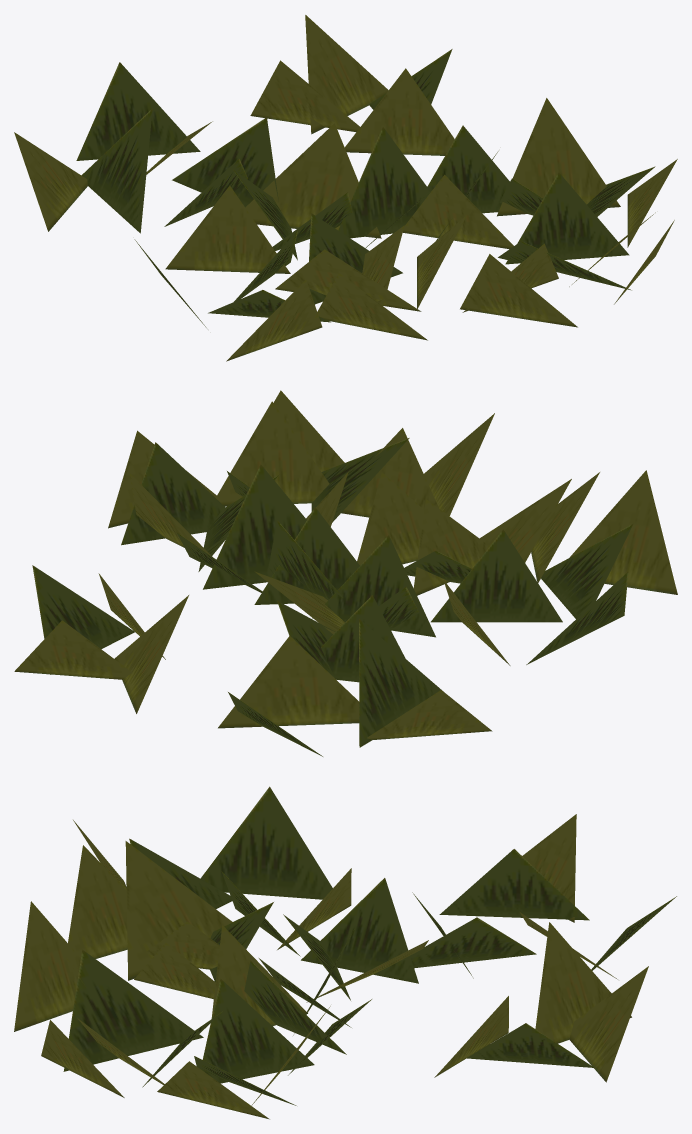
File: dec_Ground_Grass_04_1837.glb
The picture shows the model from 3 angles, top to bottom: view 1: azimuth 30°, elevation 25°; view 2: azimuth 150°, elevation 25°; view 3: azimuth 270°, elevation 25°; orthographic projection. The views are drawn at different scales.
Visible parts, largest first — view 1: Ground_Grass_04_mesh; view 2: Ground_Grass_04_mesh; view 3: Ground_Grass_04_mesh.
Part boxes in pixels (bbox=[...]): Ground_Grass_04_mesh: bbox=[14, 15, 677, 361]; Ground_Grass_04_mesh: bbox=[14, 390, 677, 756]; Ground_Grass_04_mesh: bbox=[14, 786, 676, 1119].
Size of the model in its own units: 1.78 by 0.2928 by 1.95.
1 material, 1 textured.
